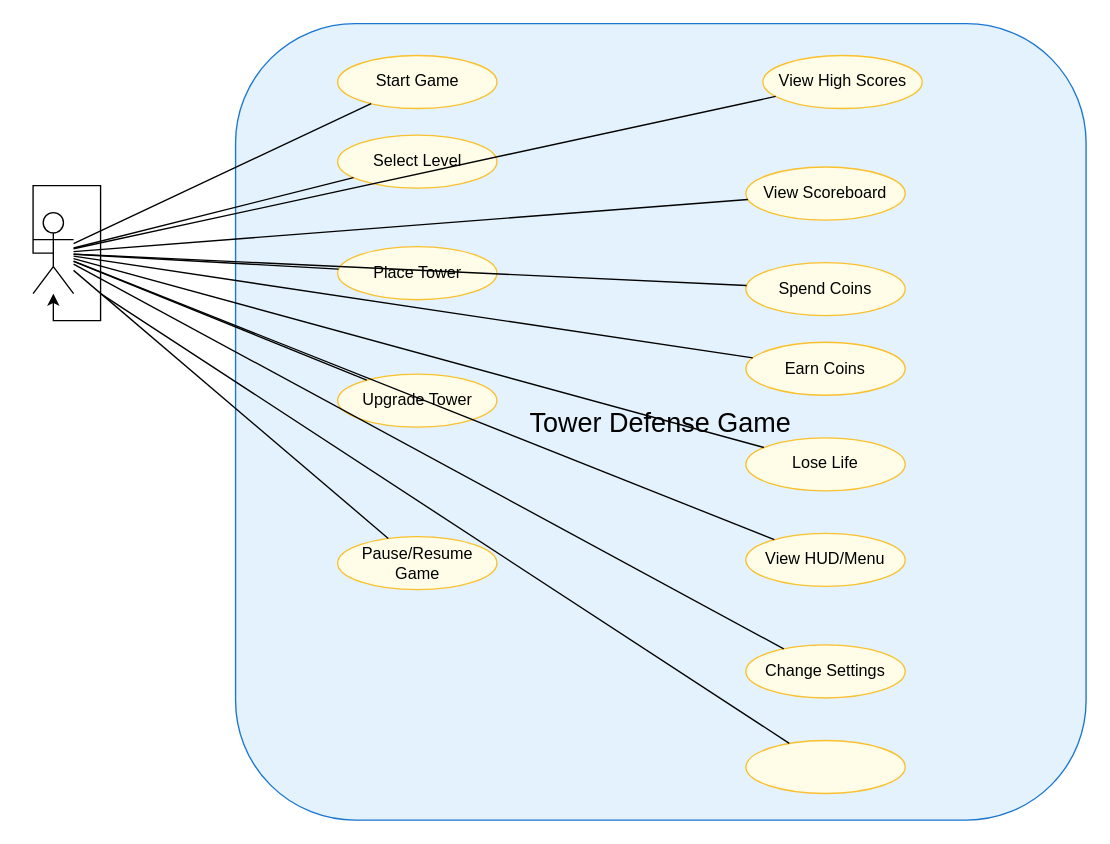
The diagram is 1110 pixels wide and 844 high, and some of its shapes have lost their labels. Here are the shapes that lost their labels. From the top down, the centre of each, then its label:
At point 53,252: "Player".
At point 825,766: "Quit Game".
